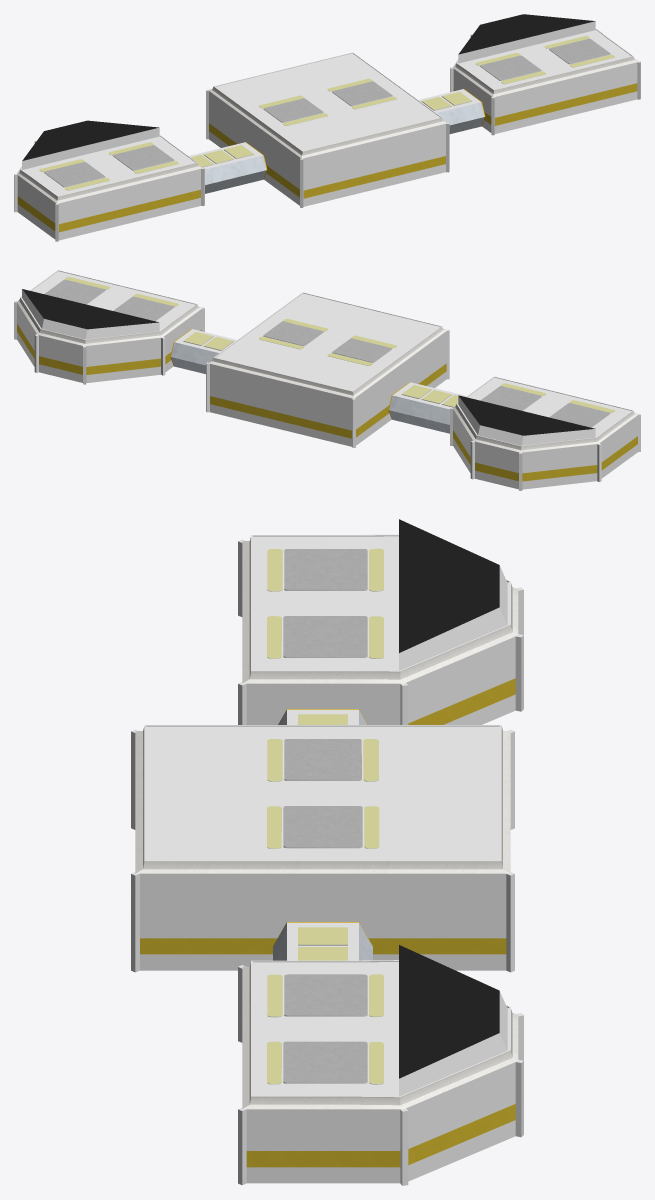
The model's file is Room.fbx.
The picture shows the model from 3 angles, top to bottom: view 1: azimuth 30°, elevation 25°; view 2: azimuth 150°, elevation 25°; view 3: azimuth 270°, elevation 25°; orthographic projection. The views are drawn at different scales.
Visible parts, largest first — view 1: RoomA.002, RoomC, RoomB, PassageMiddle, PassageMiddle.001; view 2: RoomA.002, RoomC, RoomB, PassageMiddle, PassageMiddle.001; view 3: RoomA.002, RoomB, RoomC, PassageMiddle.001, PassageMiddle.
Part boxes in pixels (x1,y1,x2,y2): RoomA.002: (206, 52, 449, 207); RoomC: (14, 120, 204, 241); RoomB: (450, 14, 640, 135); PassageMiddle: (189, 142, 266, 193); PassageMiddle.001: (418, 89, 484, 133); RoomA.002: (206, 292, 449, 447); RoomC: (450, 376, 640, 490); RoomB: (14, 270, 204, 384); PassageMiddle: (389, 382, 466, 433); PassageMiddle.001: (171, 329, 236, 374); RoomA.002: (131, 725, 514, 972); RoomB: (238, 945, 523, 1185); RoomC: (238, 519, 523, 724); PassageMiddle.001: (273, 922, 372, 960); PassageMiddle: (278, 709, 367, 724).
Bounding box in the file's own units: 7618 × 661 × 2208.
